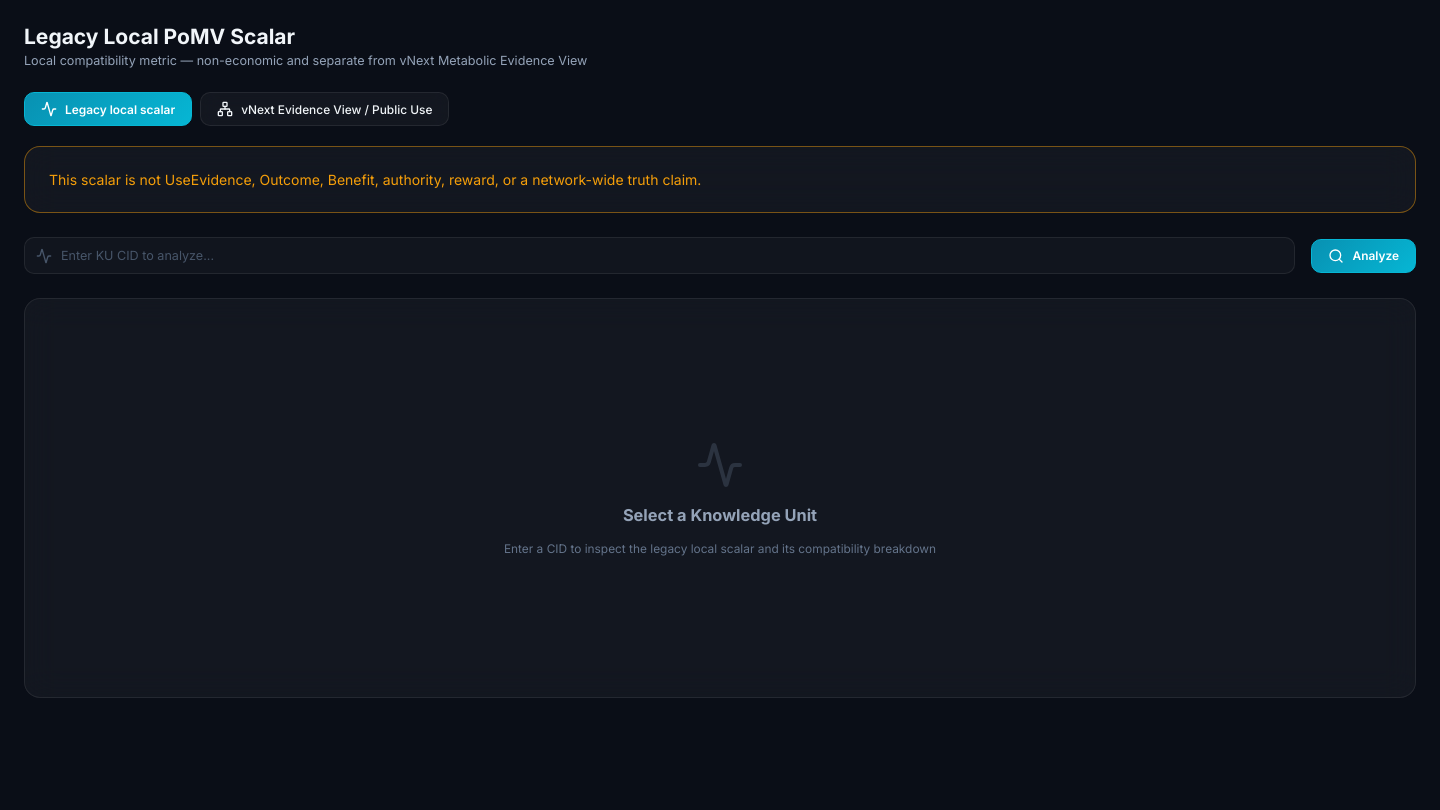
Scenario: keeps the legacy local scalar separate from the vNext Evidence View / Public Use surface
Expected: the heading "Legacy Local PoMV Scalar" is shown, [24, 24, 295, 49]
Expected: the text "vNext Metabolic Evidence View" is not shown
Click the button "vNext Evidence View / Public Use".
click(325, 109)  # box [200, 92, 449, 126]
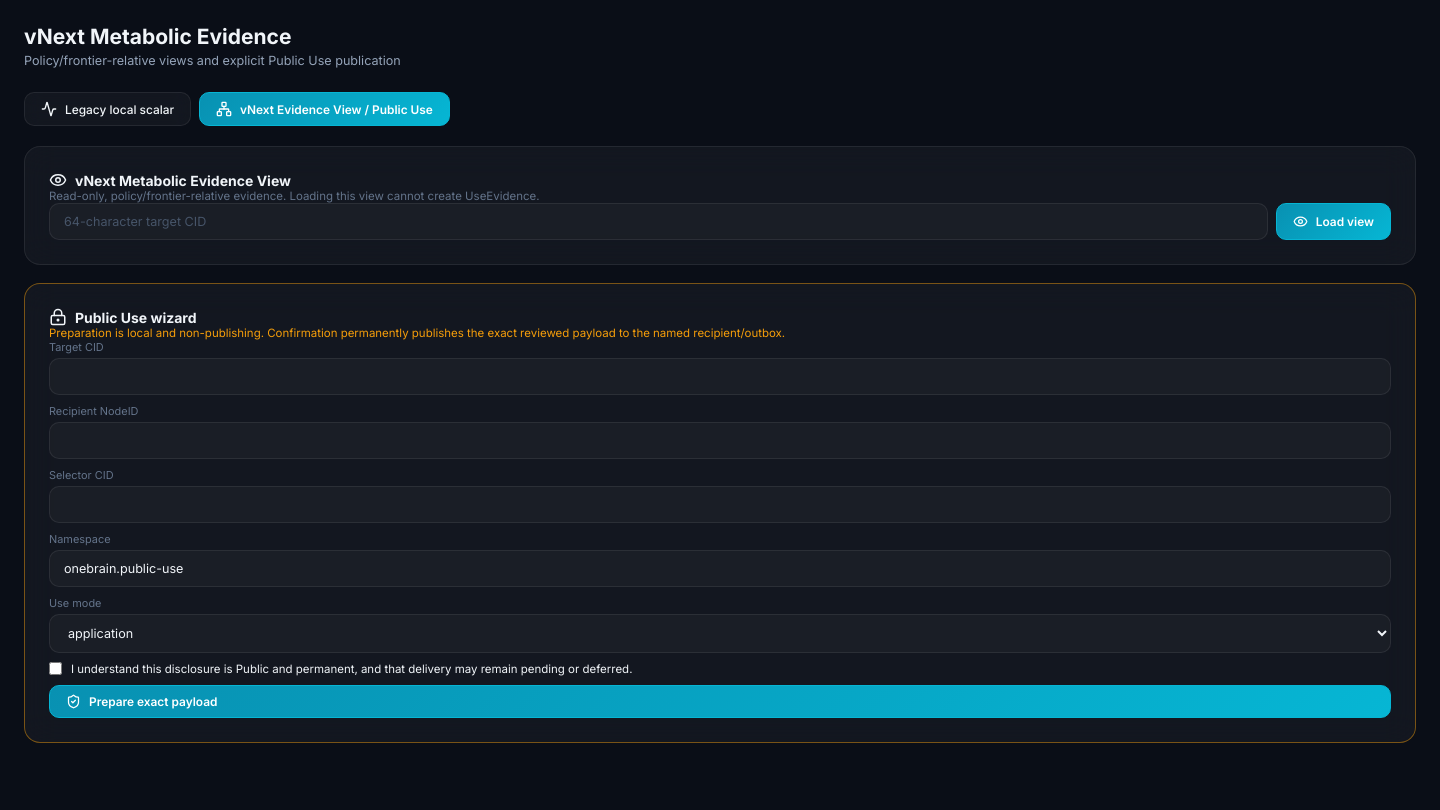
Expected: the heading "vNext Metabolic Evidence View" is shown, [49, 171, 291, 189]
Now the text "legacy local scalar and its compatibility breakdown" is gone
